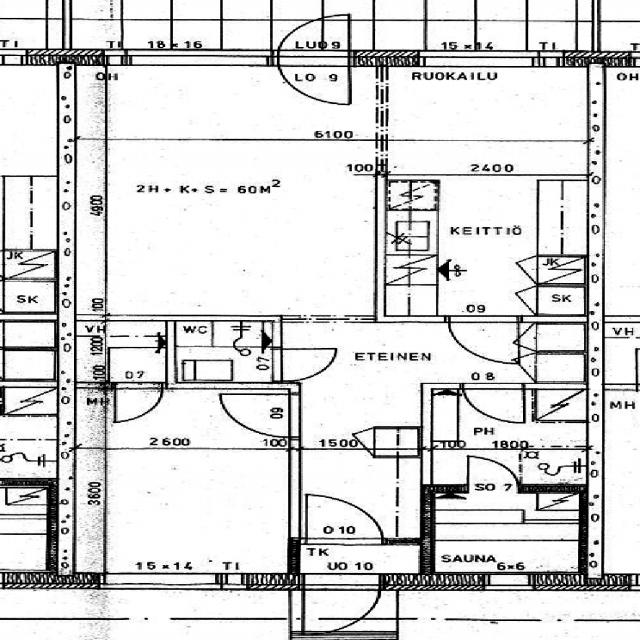door: (302, 572, 378, 636), (278, 50, 348, 109), (278, 8, 348, 66), (306, 492, 380, 545), (220, 395, 300, 436), (449, 316, 517, 364), (462, 383, 523, 427), (468, 455, 517, 494), (271, 349, 332, 380), (114, 381, 162, 419)
